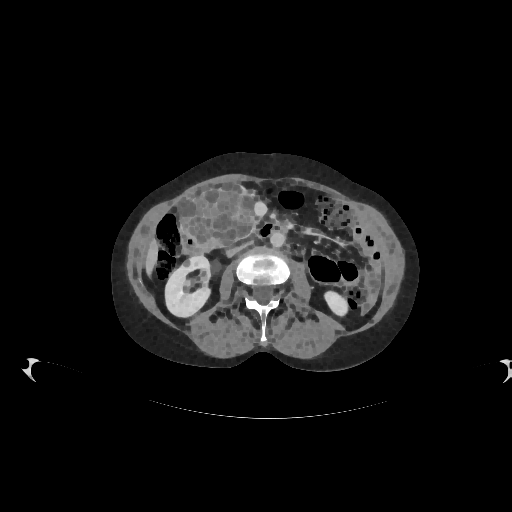Lesion: (179, 257, 193, 268)
